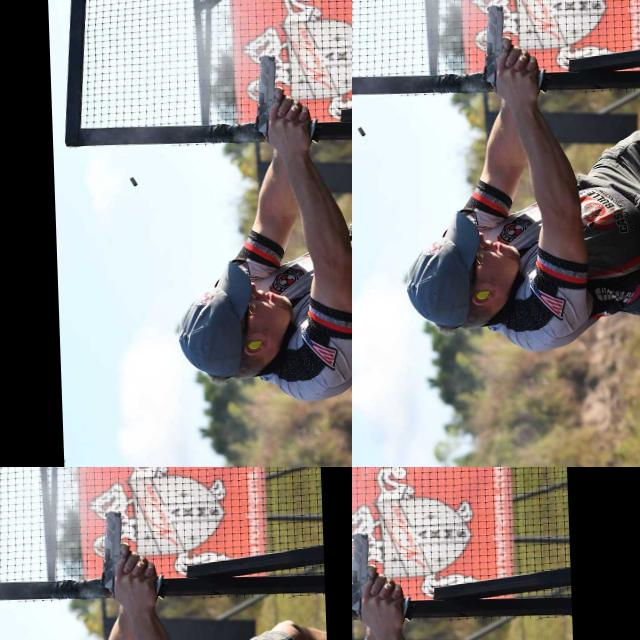handgun: (59, 217, 261, 467), (0, 467, 244, 640), (352, 529, 378, 621), (364, 246, 416, 278)
